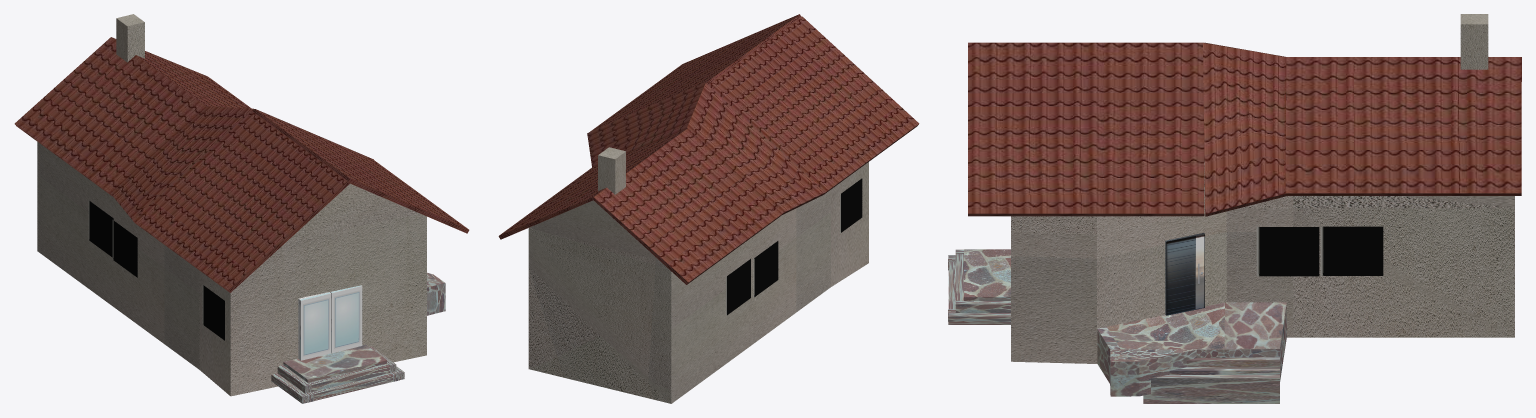
File: Builiding3.obj
3 views of the same model, side by side, from view 1: azimuth 30°, elevation 25°; view 2: azimuth 150°, elevation 25°; view 3: azimuth 270°, elevation 25° (orthographic). The views are drawn at different scales.
Visible parts, largest first — view 1: Cube, Cube.001, Cube.002, Cube.006, Cube.005, Cube.021, Cube.004, Cube.009, Cube.022, Cube.023, Cube.019, Cube.018 (+6 smaller); view 2: Cube, Cube.001, Cube.002, Cube.006, Cube.003, Cube.005, Cube.027, Cube.004, Cube.023, Cube.019, Cube.018, Cube.020; view 3: Cube, Cube.005, Cube.004, Cube.003, Cube.007, Cube.026, Cube.016, Cube.017, Cube.008, Cube.009, Cube.023, Cube.025 (+3 smaller).
Boxes of the visible parts, <box> form: Cube: <box>37,142,426,396</box>; Cube.001: <box>132,111,349,292</box>; Cube.002: <box>14,37,206,196</box>; Cube.006: <box>111,106,253,219</box>; Cube.005: <box>253,109,469,233</box>; Cube.021: <box>298,292,331,360</box>; Cube.004: <box>112,37,251,108</box>; Cube.009: <box>283,344,386,382</box>; Cube.022: <box>330,285,362,352</box>; Cube.023: <box>116,14,144,62</box>; Cube.019: <box>112,220,137,277</box>; Cube.018: <box>88,200,113,257</box>; Cube: <box>528,162,868,403</box>; Cube.001: <box>708,16,919,194</box>; Cube.002: <box>593,128,782,284</box>; Cube.006: <box>687,83,824,215</box>; Cube.003: <box>587,82,705,167</box>; Cube.005: <box>590,14,800,131</box>; Cube.027: <box>529,200,659,260</box>; Cube.004: <box>498,129,686,239</box>; Cube.023: <box>598,147,625,194</box>; Cube.019: <box>753,241,778,297</box>; Cube.018: <box>726,259,750,315</box>; Cube.020: <box>840,178,862,233</box>; Cube: <box>1011,162,1514,363</box>; Cube.005: <box>968,42,1204,216</box>; Cube.004: <box>1285,57,1521,195</box>; Cube.003: <box>1203,43,1286,216</box>; Cube.007: <box>1097,302,1286,396</box>; Cube.026: <box>1143,375,1279,403</box>; Cube.016: <box>1256,227,1319,276</box>; Cube.017: <box>1320,226,1383,275</box>; Cube.008: <box>1165,233,1204,315</box>; Cube.009: <box>964,249,1010,300</box>; Cube.023: <box>1460,14,1488,69</box>; Cube.025: <box>1186,357,1279,367</box>.
Size of the model in its own units: 30.72 by 24.76 by 44.96.
